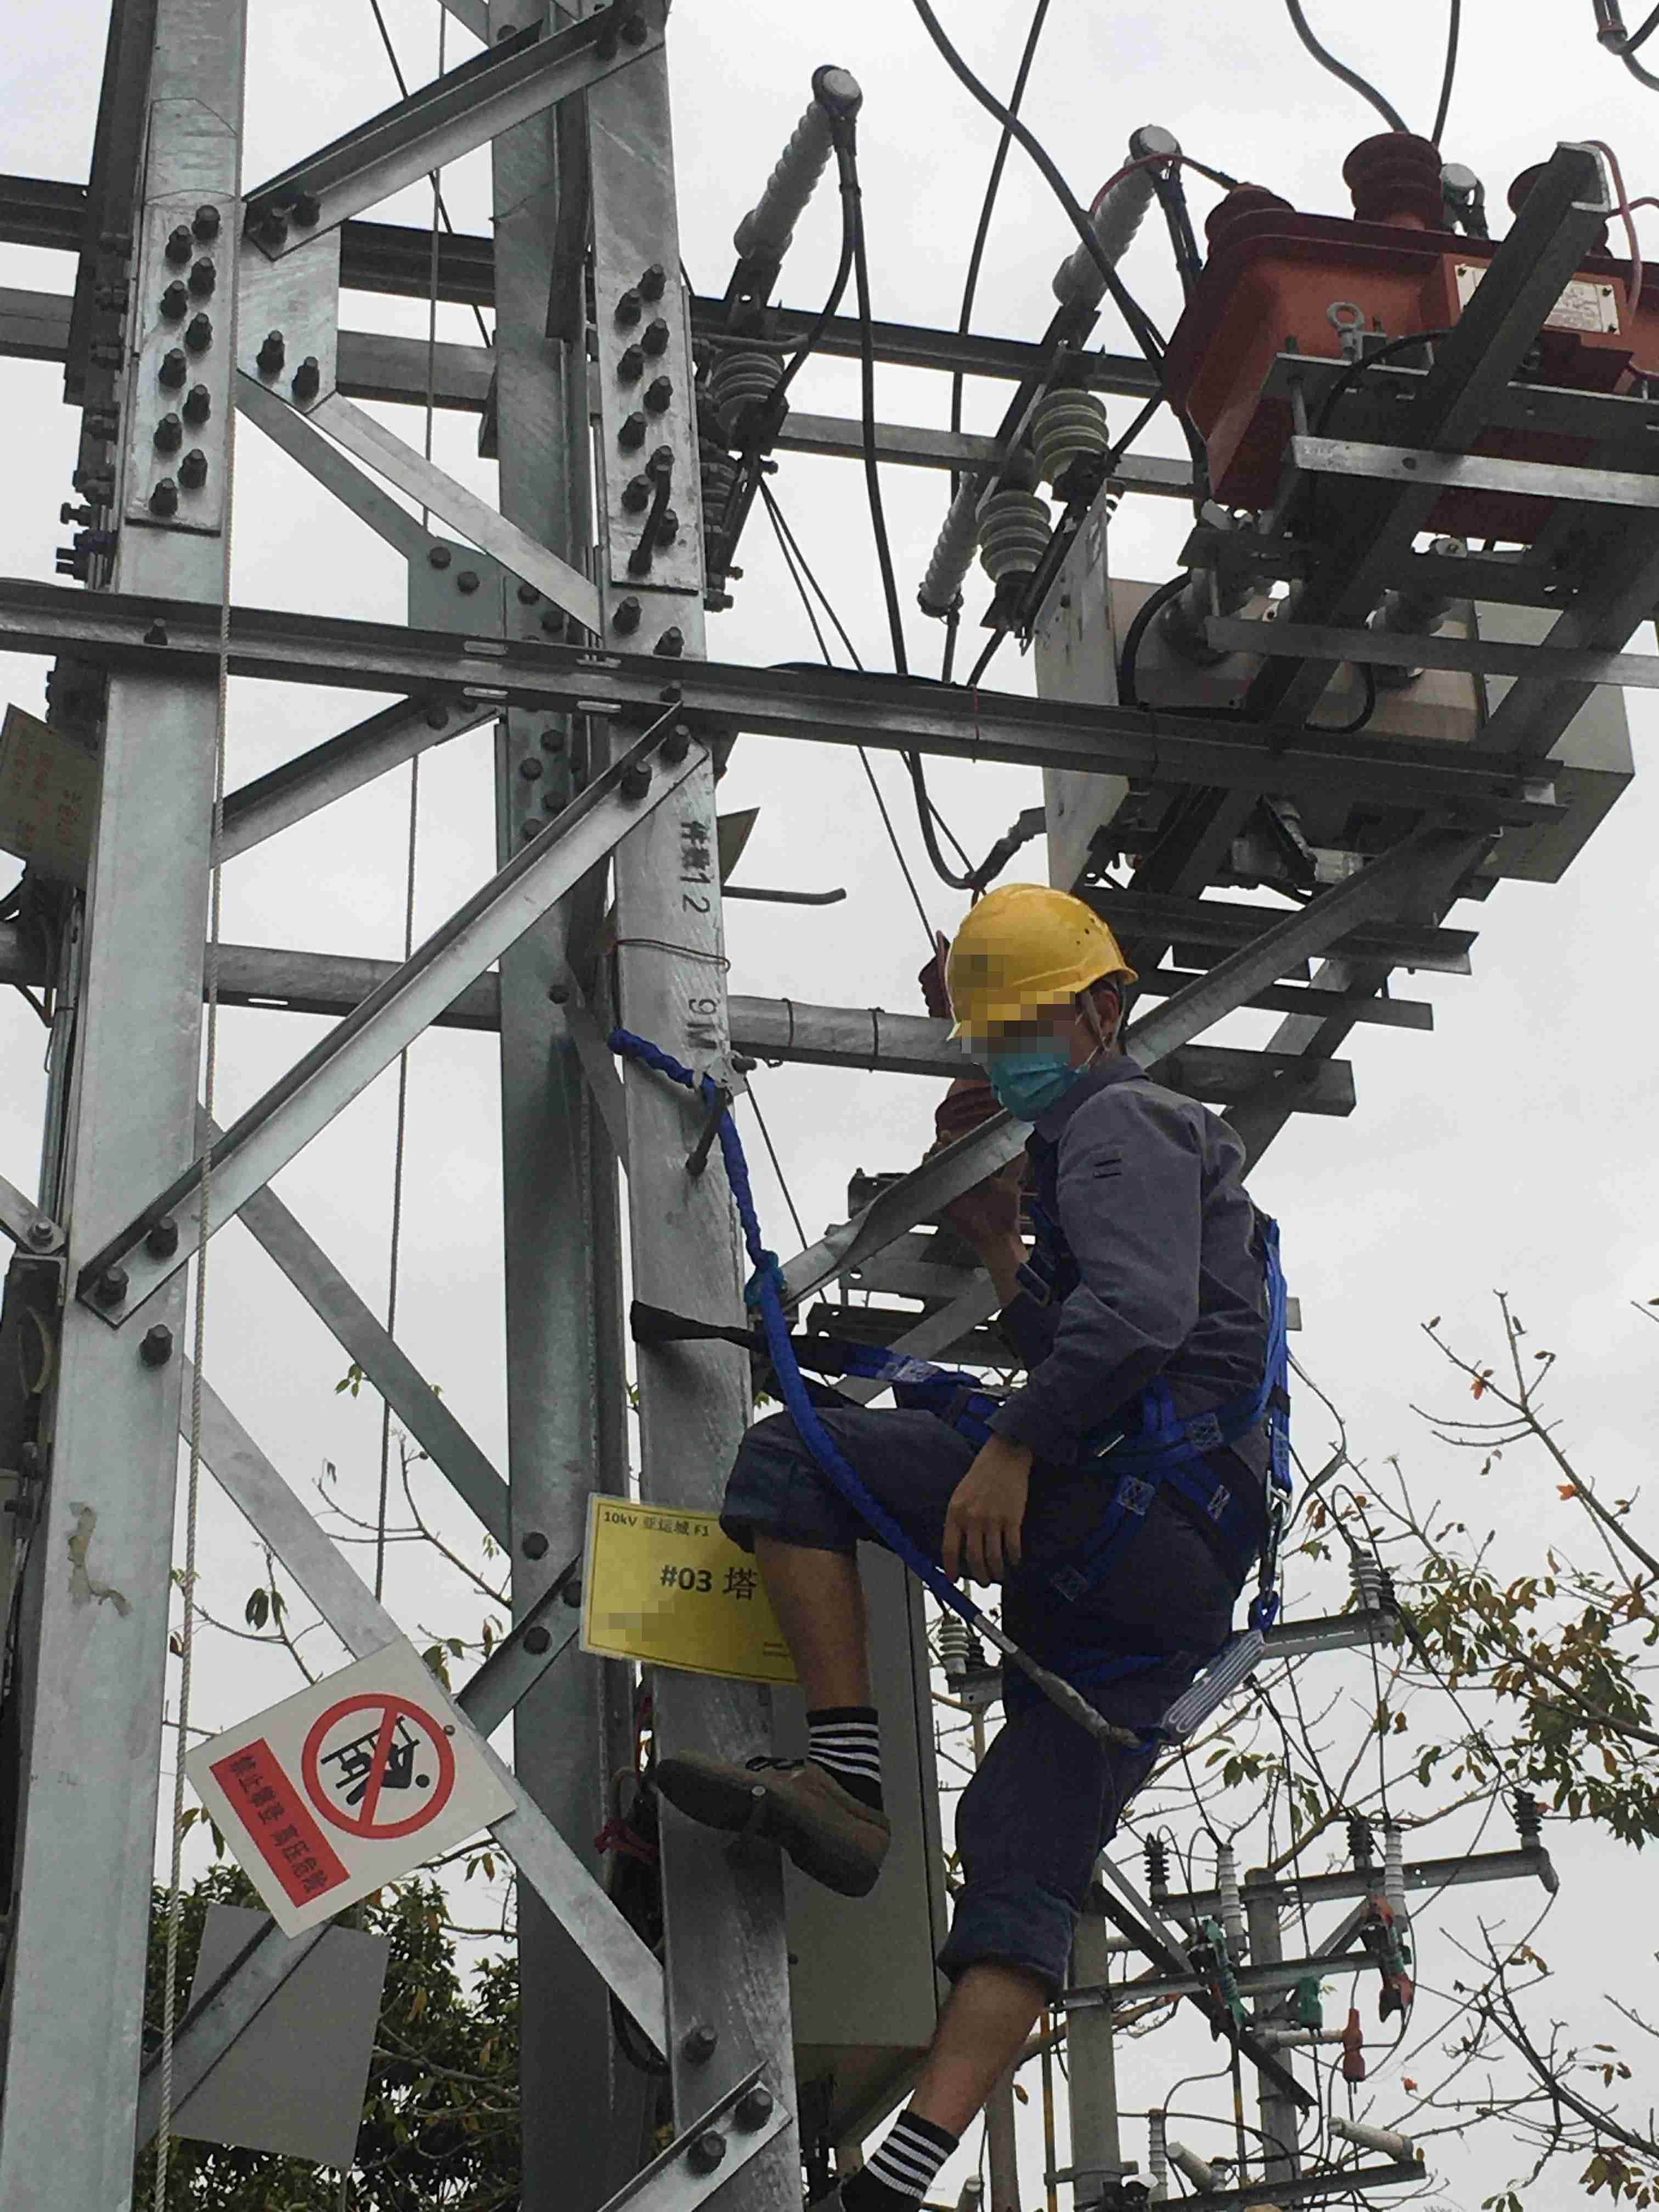downsuit: (716, 1404, 1262, 2003)
upsuit: (992, 1054, 1288, 1536)
wrongbottom: (903, 1878, 1082, 2148), (716, 1451, 892, 1717)
